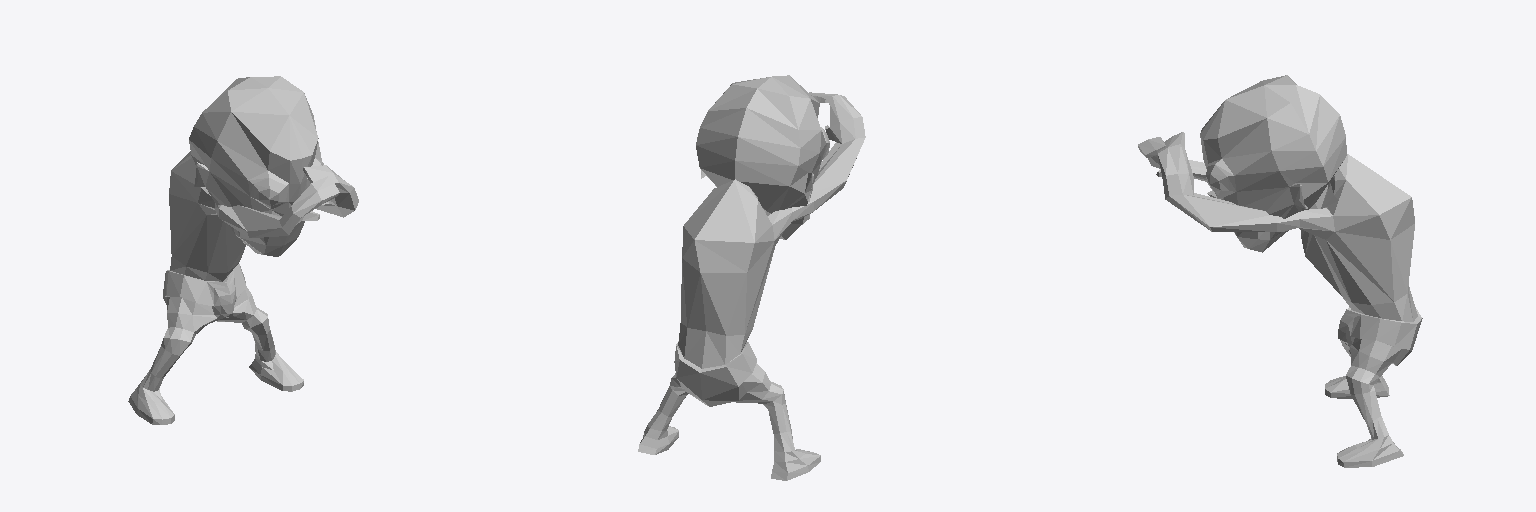
The model's file is GuardianNormal_000105.obj.
3 renders of one model, left to right at view 1: azimuth 30°, elevation 25°; view 2: azimuth 150°, elevation 25°; view 3: azimuth 270°, elevation 25°, orthographic.
Parts seen in each view (by area): view 1: untitled2:Mesh1.001; view 2: untitled2:Mesh1.001; view 3: untitled2:Mesh1.001.
Boxes of the visible parts, x1=… form: untitled2:Mesh1.001: x1=128, y1=76, x2=358, y2=424; untitled2:Mesh1.001: x1=638, y1=75, x2=865, y2=480; untitled2:Mesh1.001: x1=1138, y1=75, x2=1422, y2=467.
Size of the model in its own units: 6.86 by 14.13 by 10.57.